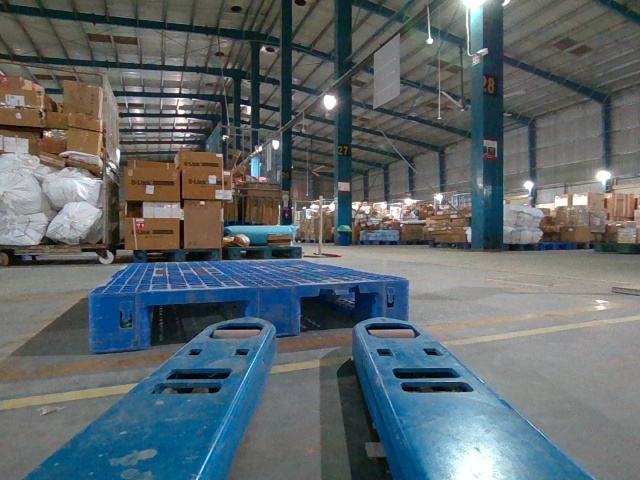block: (89, 293, 153, 350), (249, 284, 302, 337), (376, 279, 412, 322)
front: (90, 279, 409, 352)
hole pallet: (141, 295, 252, 350), (292, 287, 377, 332)
